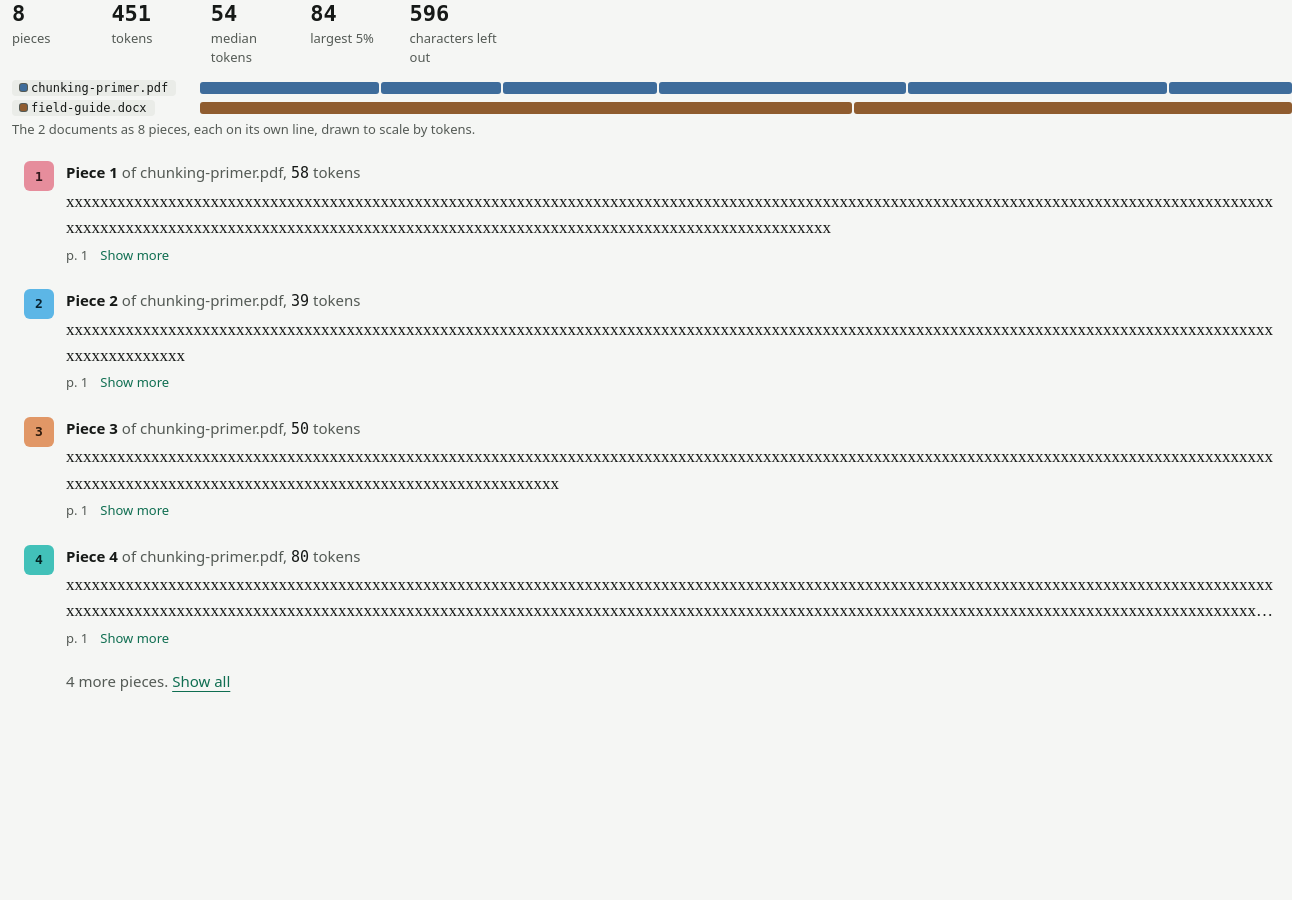
ChunkEvidence › with several documents, says the totals, draws each file on its own line, and names each piece's file
Expected: the number of elements with test id "file-scale-line" is 2, left=12, top=80, right=1291, bottom=96; left=12, top=100, right=1291, bottom=116
Expected: the text "The 2 documents as 8 pieces, each on its own line, drawn to scale by tokens." is shown, left=12, top=120, right=475, bottom=138
Click the button "Show all".
click(201, 681)  # box left=172, top=670, right=230, bottom=693
(page scrolled)
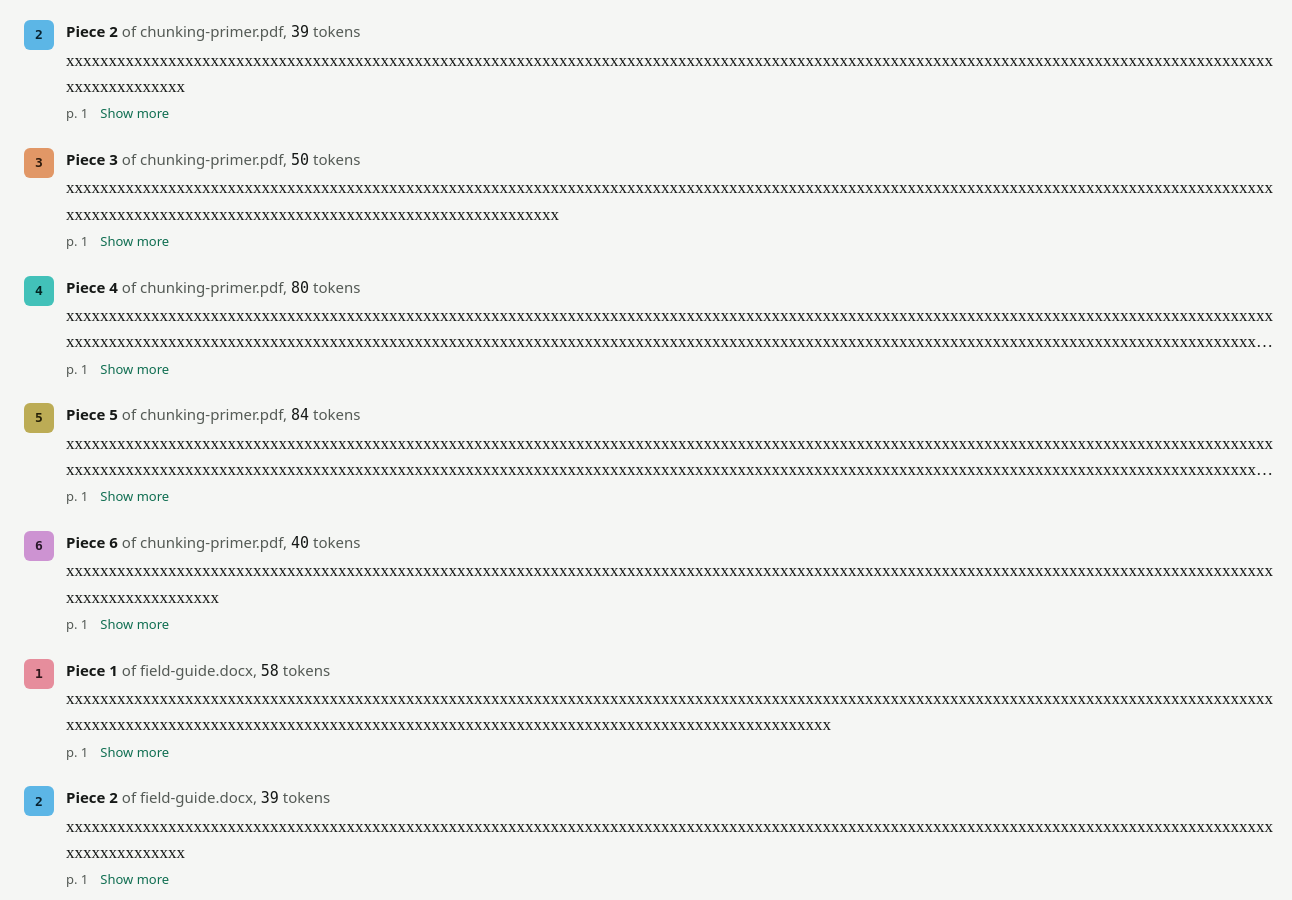
Now the number of elements with test id "finding" is 8
Now the element with test id "finding" reads "Piece 1 of field-guide.docx, 58 tokens", box left=66, top=660, right=330, bottom=680
